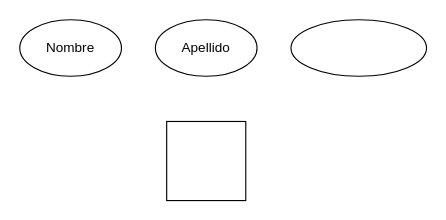
This 446x220 diagram has some shape labels left out. The shapes that lost their labels are listed below. From the top down, each one's centre as x and y in pixels, then its label:
point (358, 47): Nombre Usuario
point (206, 160): Usuarios
